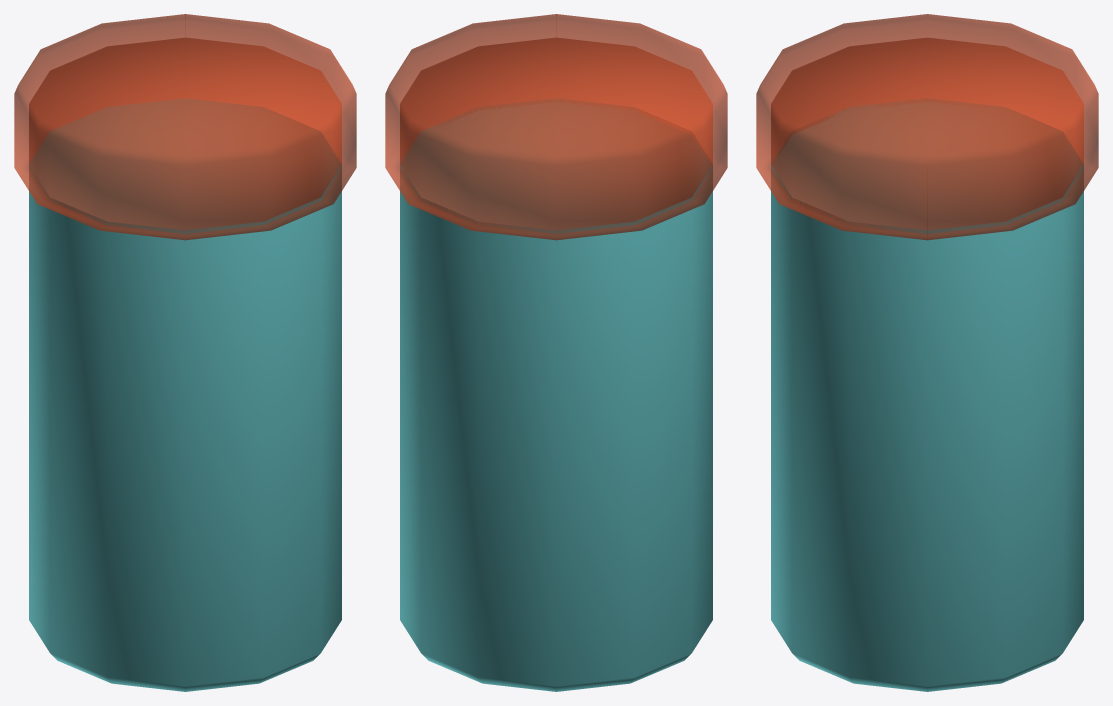
The model's file is SPP_MOD_Pill_bottle.fbx.
3 views of the same model, side by side, from view 1: azimuth 30°, elevation 25°; view 2: azimuth 150°, elevation 25°; view 3: azimuth 270°, elevation 25° (orthographic).
Visible parts, largest first — view 1: SPP_MOD_Pill_bottle; view 2: SPP_MOD_Pill_bottle; view 3: SPP_MOD_Pill_bottle.
Part boxes in pixels (x1,y1,x2,y2): SPP_MOD_Pill_bottle: (14,14,356,691); SPP_MOD_Pill_bottle: (385,14,727,691); SPP_MOD_Pill_bottle: (756,14,1098,691).
Bounding box in the file's own units: 0.0375 × 0.0658 × 0.0375.
